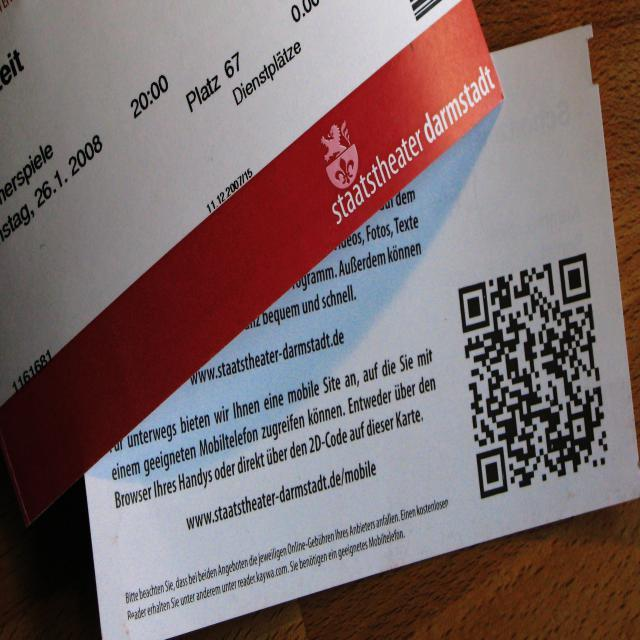qrcode: (460, 254, 611, 500)
